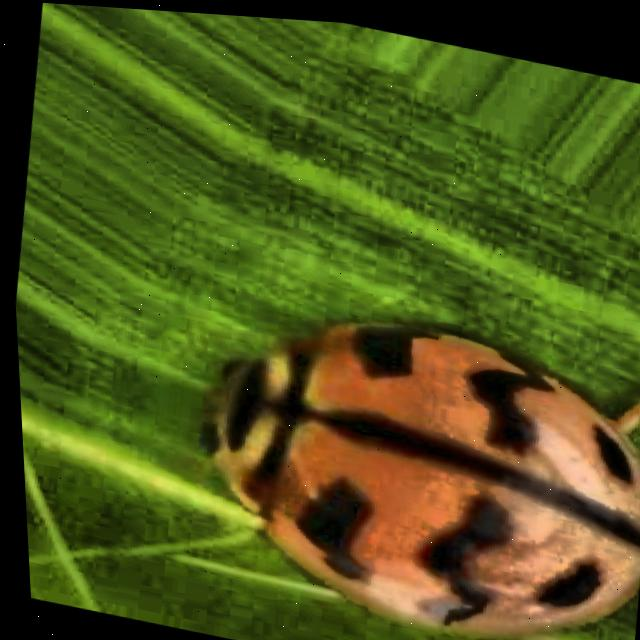Asian-Lady-beetle: (123, 191, 640, 640)
